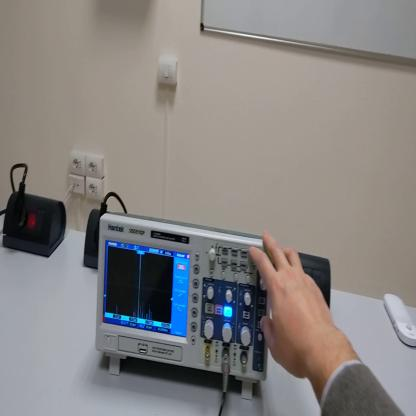hand: (250, 232, 334, 383)
oscilloscope: (94, 214, 269, 402)
socket: (4, 191, 67, 259), (85, 212, 104, 270)
